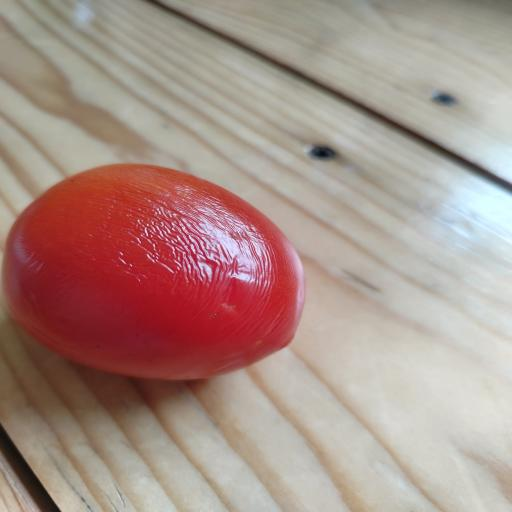spoiled: (3, 164, 304, 380)
